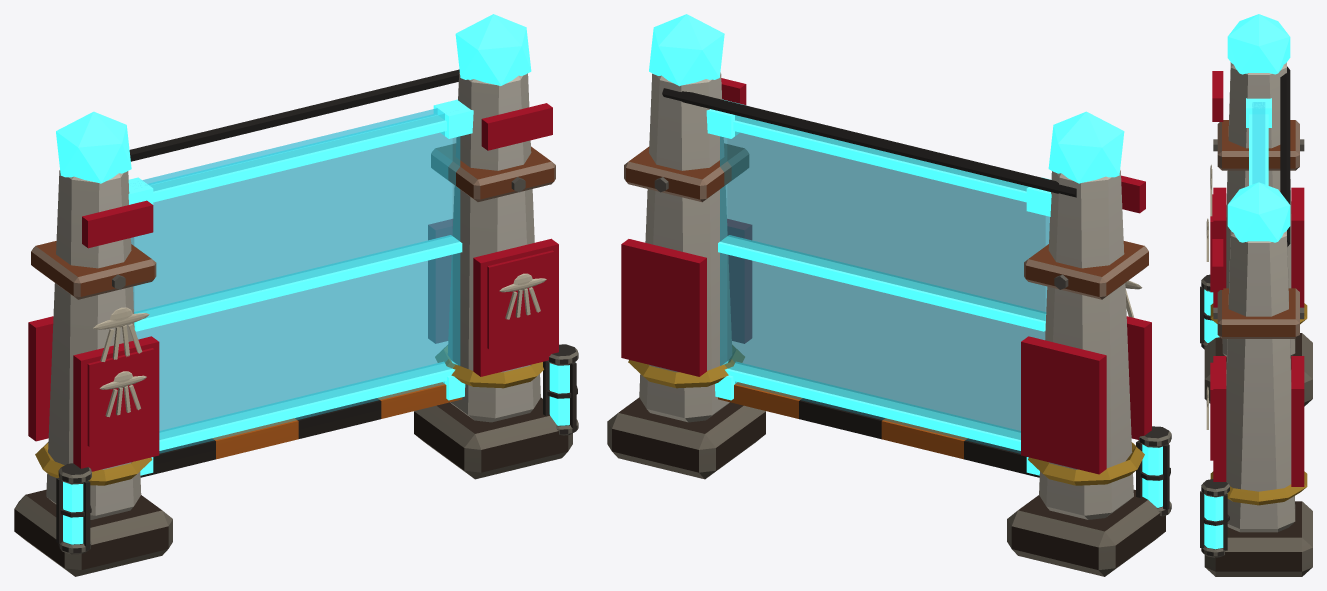
The model's file is gb_wall.glb.
The picture shows the model from 3 angles, left to right: view 1: azimuth 30°, elevation 25°; view 2: azimuth 150°, elevation 25°; view 3: azimuth 270°, elevation 25°; orthographic projection. The views are drawn at different scales.
Parts seen in each view (by area): view 1: gb_wall; view 2: gb_wall; view 3: gb_wall.
Boxes of the visible parts, x1,y1,x2,y2 form: gb_wall: (14,14,578,576); gb_wall: (607,14,1171,576); gb_wall: (1200,14,1312,576).
Bounding box in the file's own units: 2.38 × 1.92 × 0.522.
